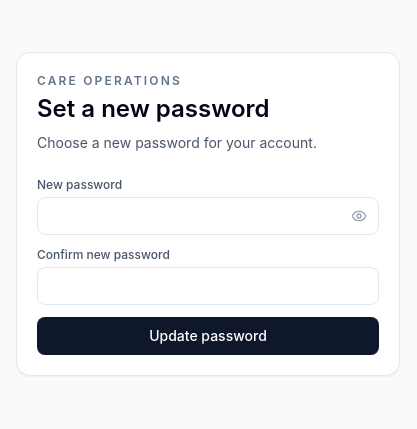
ResetPasswordPage › shows a readable error when updating the password fails
This screenshot has width=417, height=429.
Type "longenough1" into the password field labelled "New password". click: (208, 216)
box: [37,197,379,235]
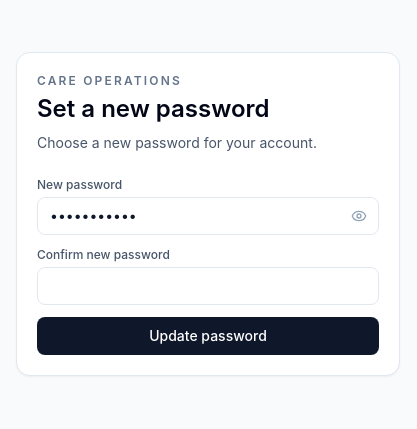
Type "longenough1" into the password field labelled "Confirm new password". click: (208, 286)
box: [37,267,379,305]
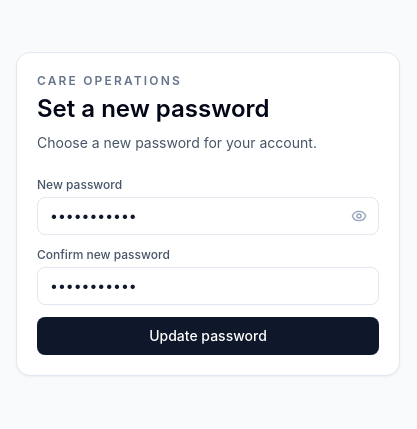
Click the button "Update password". click: (208, 336)
box: [37,317,379,355]
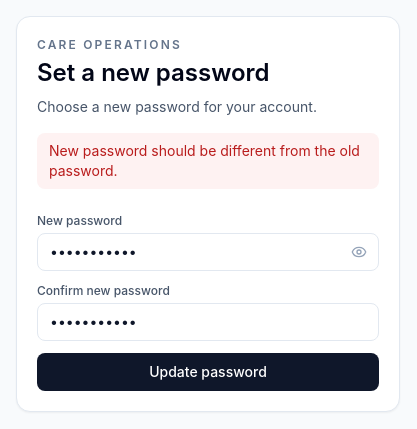
Expected: the text "New password should be different from the old password." is shown, [37,133,379,189]
